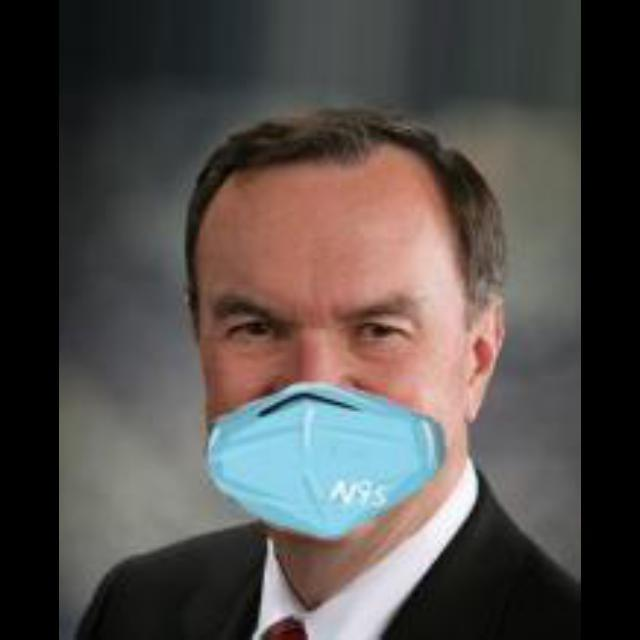suspicion: (186, 108, 524, 554)
